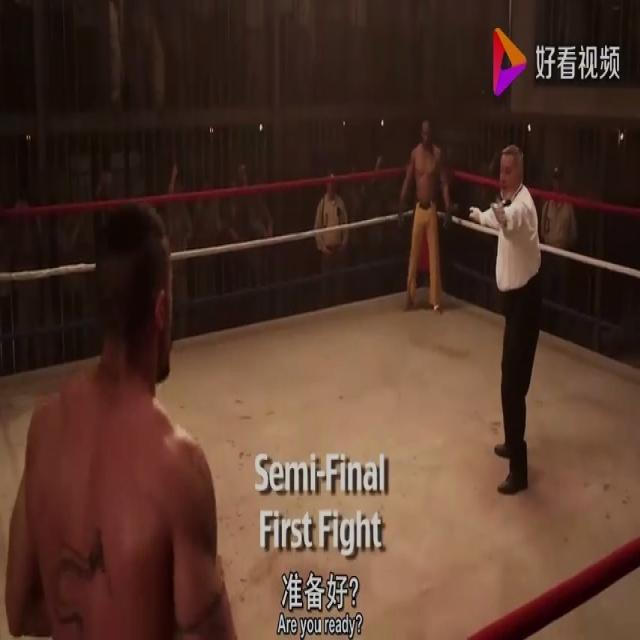fight: (0, 115, 453, 639)
non-fight: (468, 138, 542, 500)
